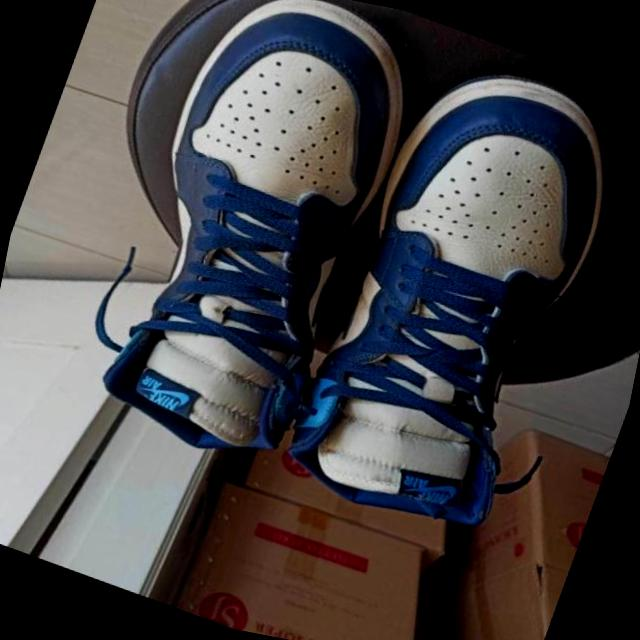nike_original_jordan: (264, 27, 640, 565), (73, 0, 446, 495)
